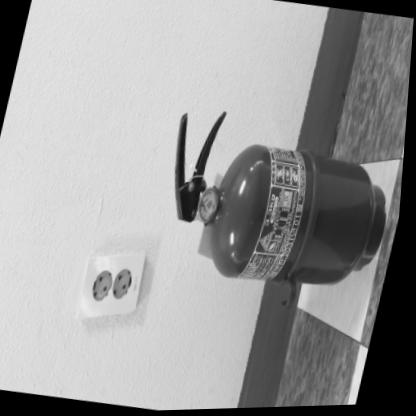FE: (146, 102, 409, 303)
